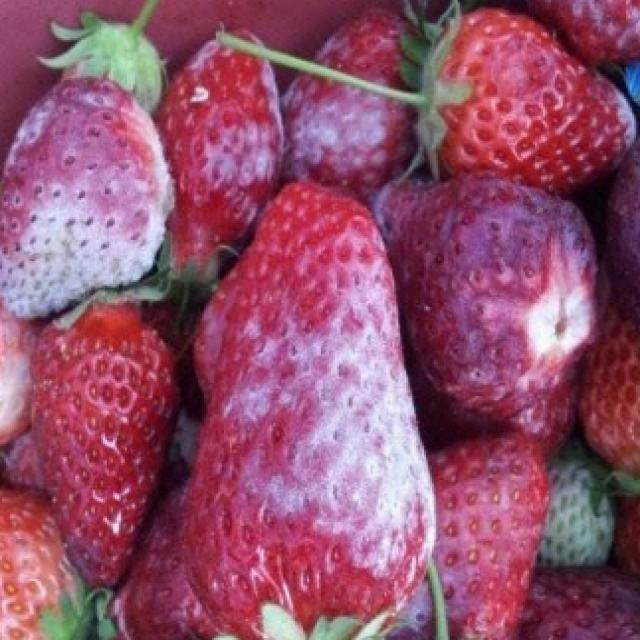Powdery Mildew Fruit: (178, 181, 439, 640), (0, 75, 176, 323), (149, 27, 283, 284), (278, 5, 432, 192), (0, 486, 94, 640), (522, 0, 640, 63), (581, 69, 639, 173)
